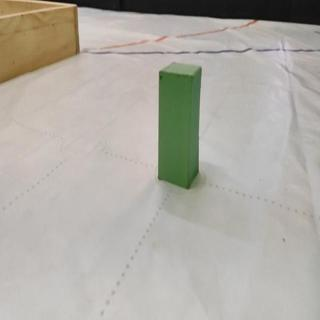greenbox: (157, 61, 204, 189)
